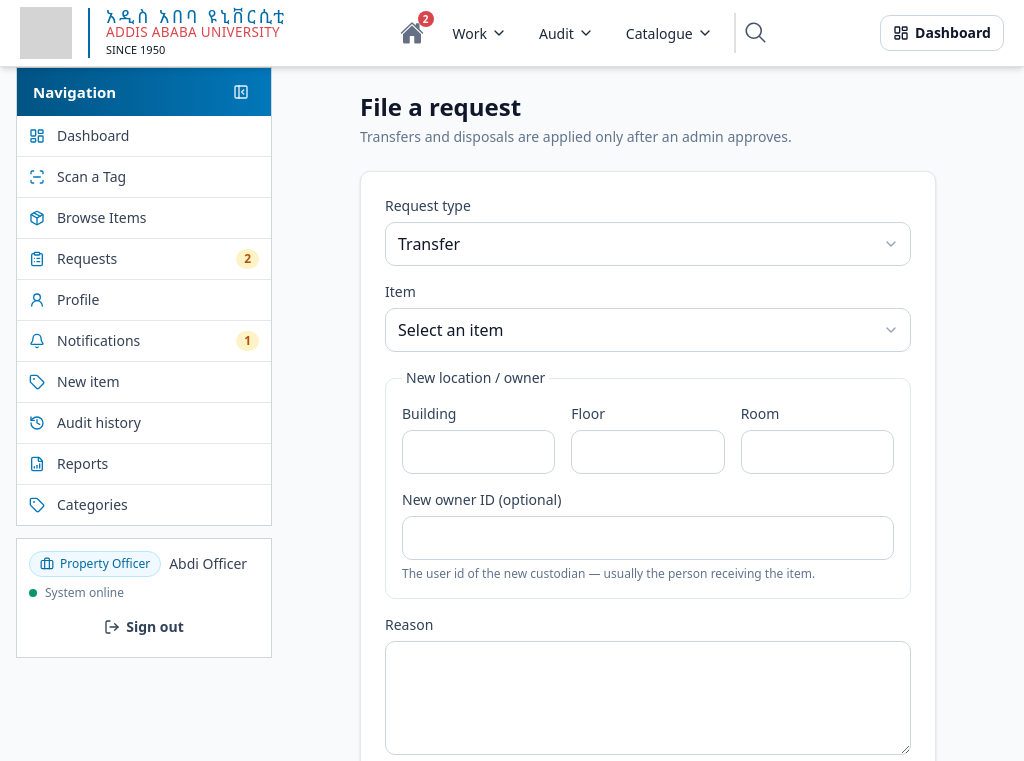
Test: request form validation parity › enforces the 10-character reason minimum
This screenshot has width=1024, height=761.
Select "Dell Latitude 5440 (CNCS-AB12CD34)" in the dropdown labelled "Item": coordinates (648, 330) [385,308,911,352]
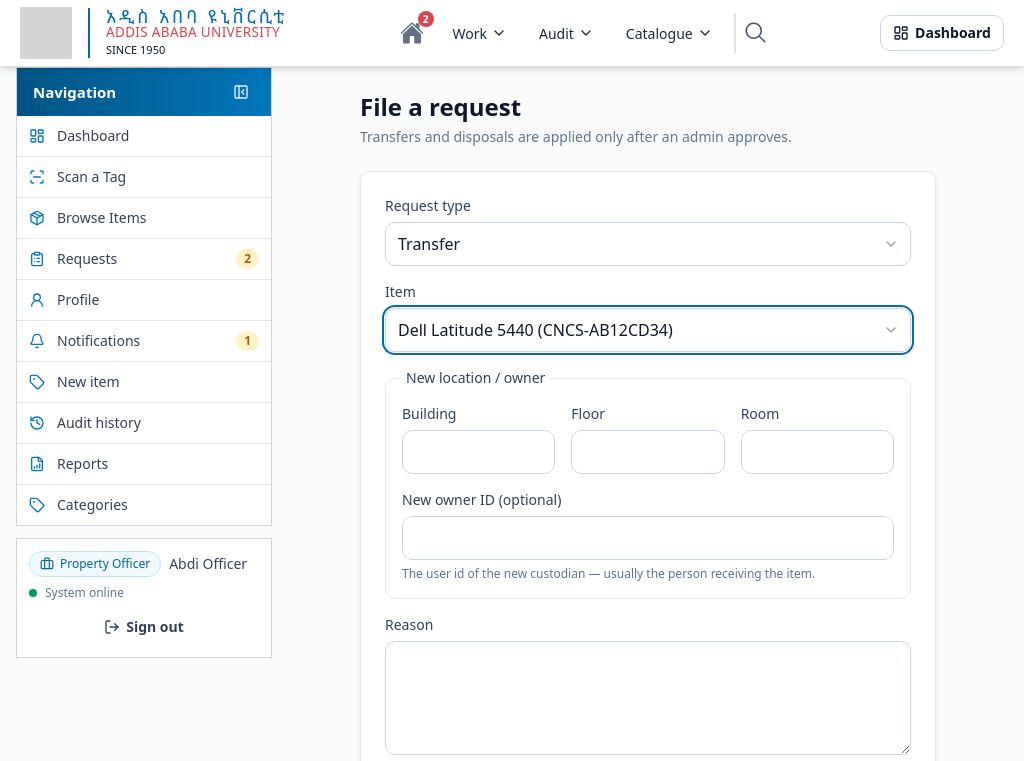
In the text box labelled "Reason": coordinates (648, 698) [385,641,911,755], type "too short"
(page scrolled)
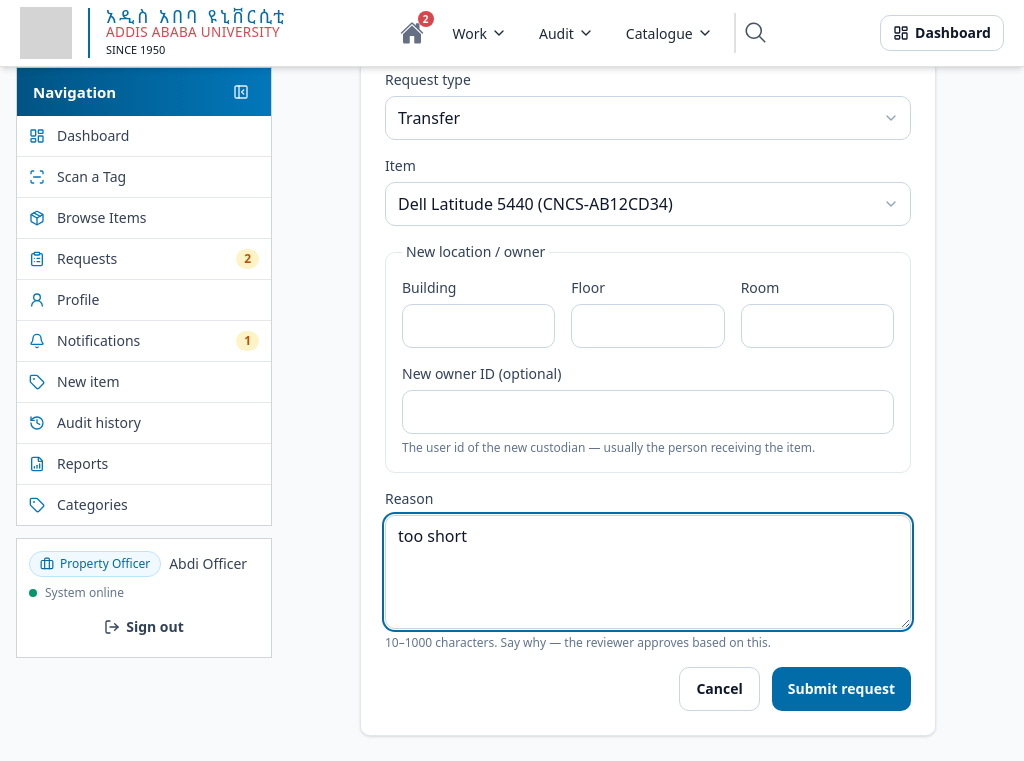
Click the button "Submit request": coordinates (841, 689) [772,667,911,711]
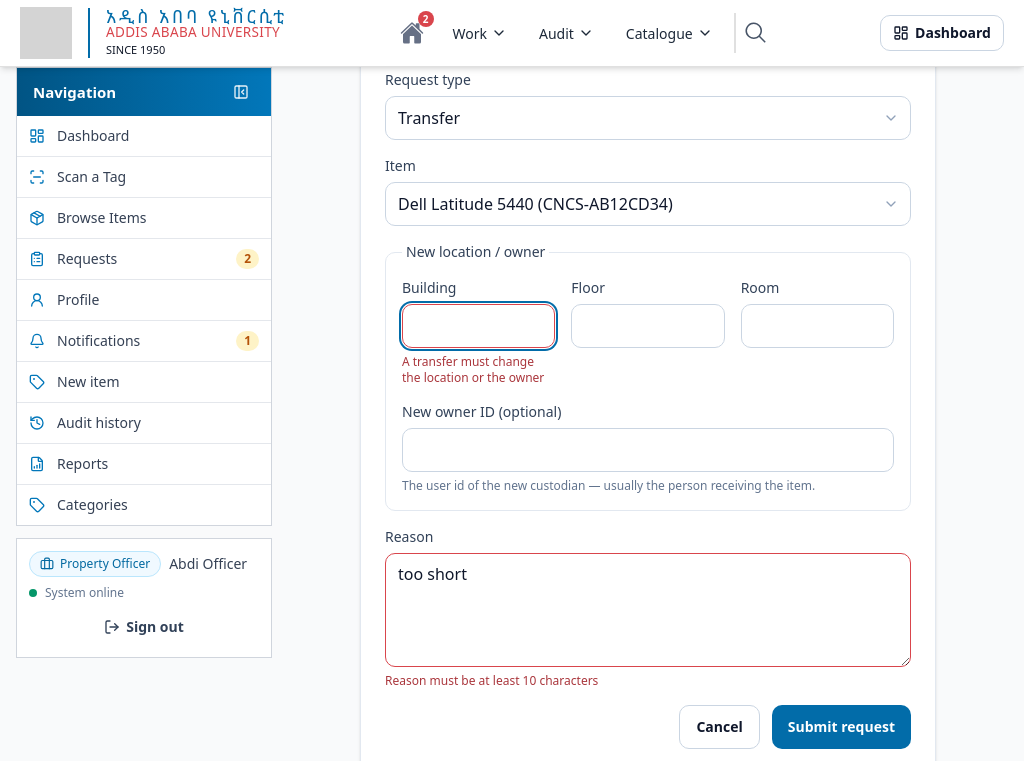
Expected: the text "Reason must be at least 10 characters" is shown, [385,672,598,689]
